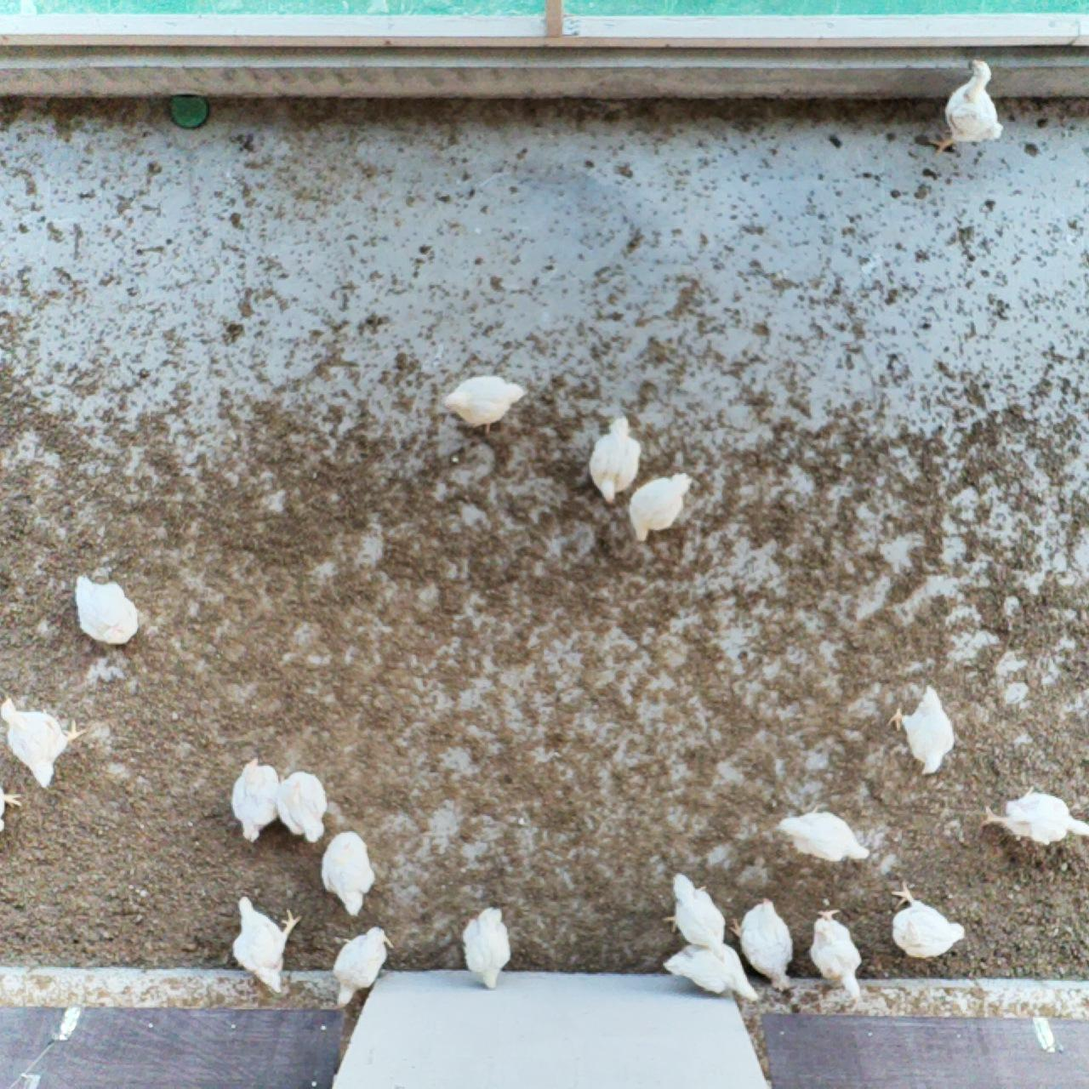chicken: (0, 693, 88, 792), (923, 57, 1005, 158), (222, 892, 302, 994), (977, 784, 1089, 851), (727, 892, 799, 994), (660, 937, 762, 1007), (887, 877, 968, 964), (889, 680, 959, 780), (774, 801, 874, 868), (804, 905, 867, 1008), (332, 922, 397, 1014), (72, 569, 144, 651), (440, 371, 529, 436), (316, 828, 379, 919), (585, 413, 644, 508), (625, 468, 696, 546), (457, 902, 517, 993), (660, 870, 728, 949), (227, 752, 281, 844), (277, 770, 328, 844)
